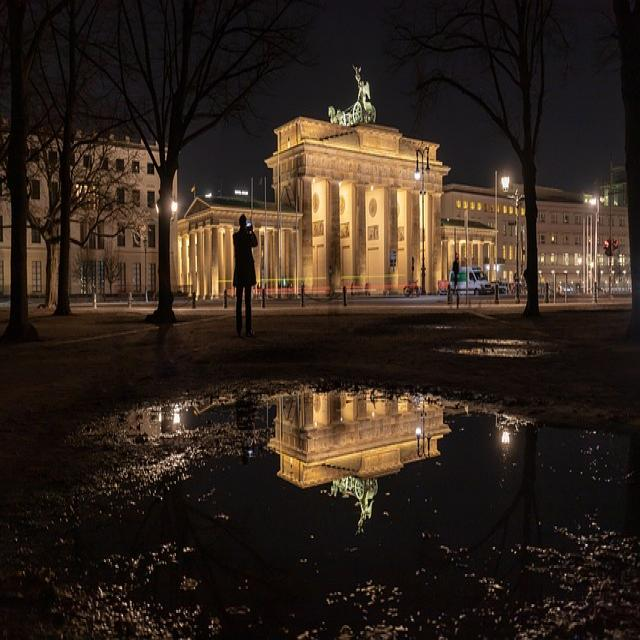pothole: (48, 384, 640, 640)
